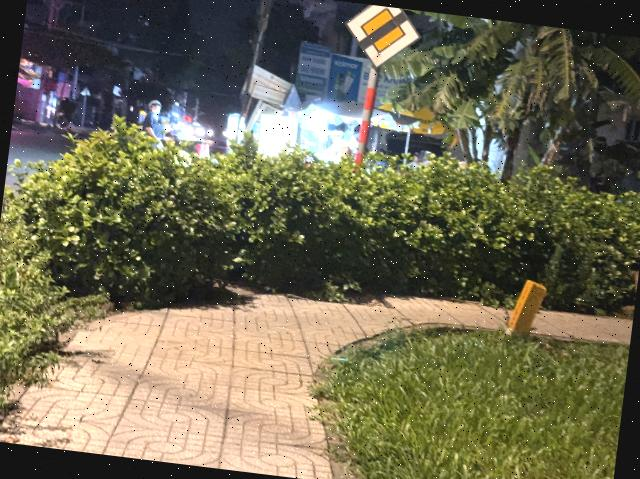het-duong-uu-tien: (340, 2, 424, 76)
